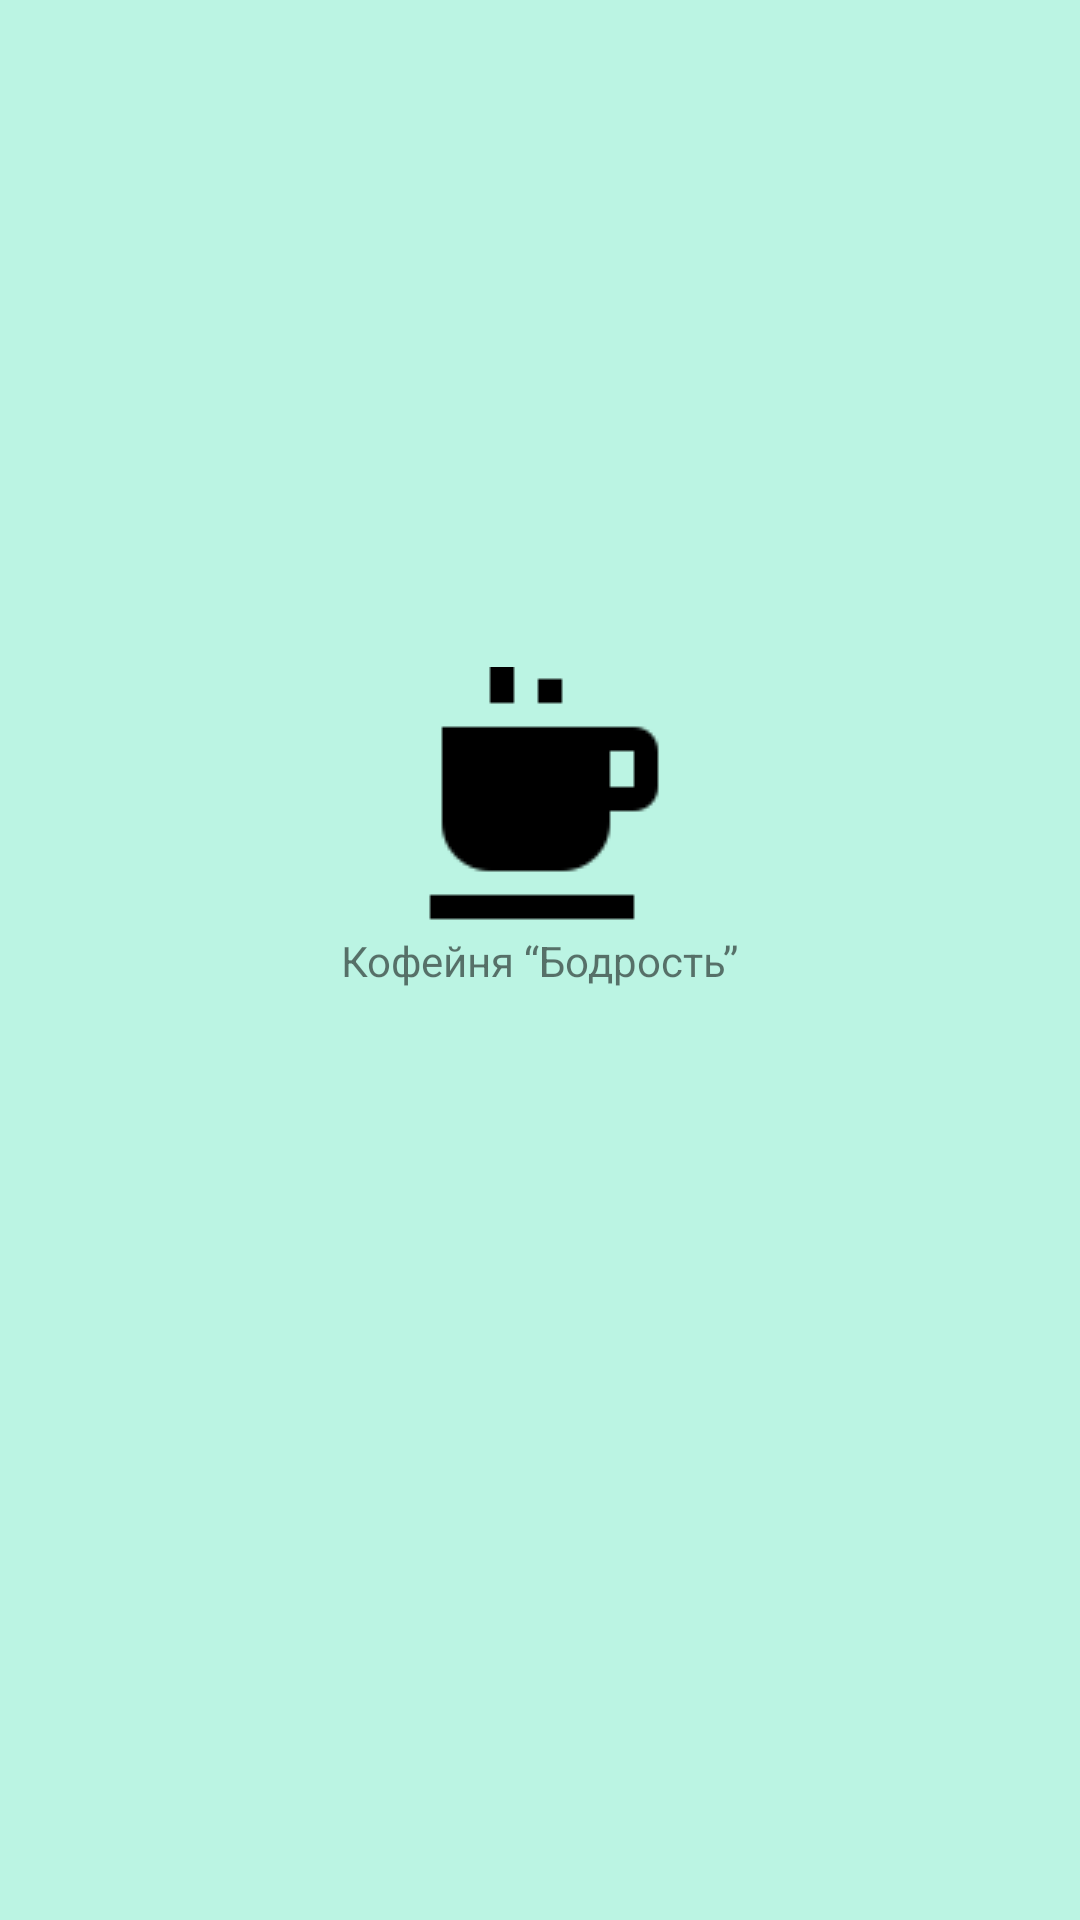

Named icons in this screenshot (1080×1920) and their centers, (x,y):
cup: (544,811)
